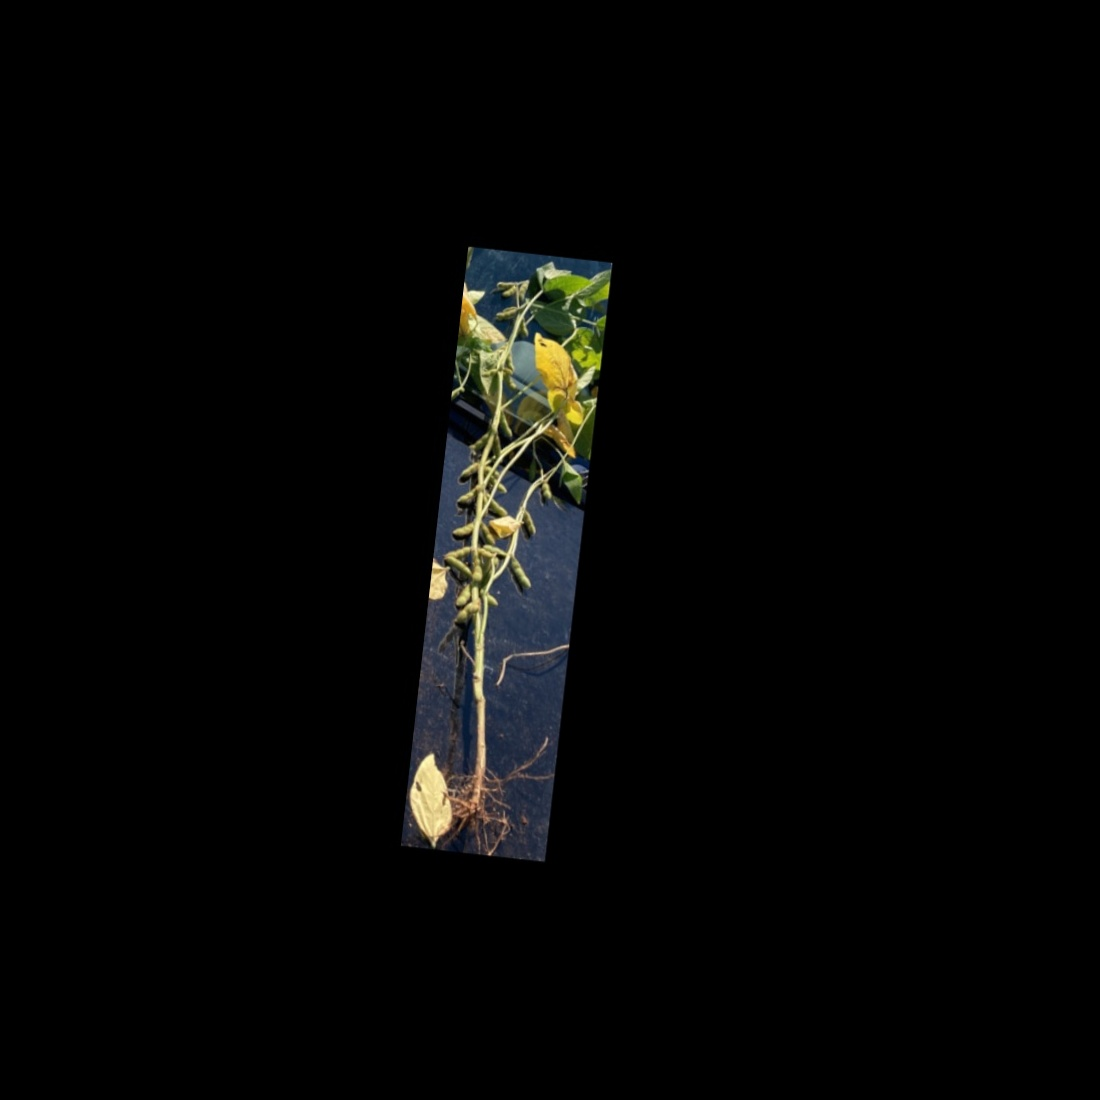pod: (504, 555, 537, 593), (440, 552, 477, 580), (441, 539, 474, 563), (516, 510, 539, 541), (449, 517, 476, 542), (493, 303, 521, 323), (454, 580, 472, 611), (517, 316, 532, 341), (505, 348, 520, 373), (516, 279, 530, 305), (538, 479, 554, 502), (499, 283, 519, 299)
soy: (405, 257, 607, 843)
